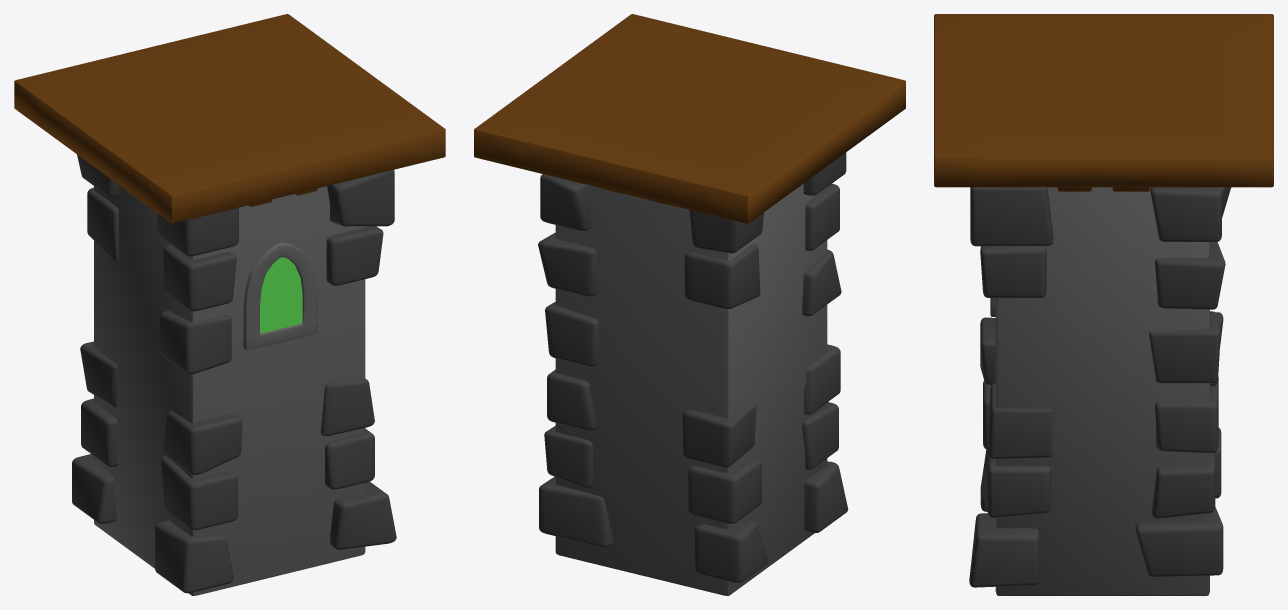
Rendered from MainTowerBase.fbx.
The picture shows the model from 3 angles, left to right: view 1: azimuth 30°, elevation 25°; view 2: azimuth 150°, elevation 25°; view 3: azimuth 270°, elevation 25°; orthographic projection. The views are drawn at different scales.
Parts seen in each view (by area): view 1: MainTowerBase; view 2: MainTowerBase; view 3: MainTowerBase.
Boxes of the visible parts, x1,y1,x2,y2 form: MainTowerBase: (14,14,445,595); MainTowerBase: (474,14,905,595); MainTowerBase: (934,14,1273,595).
Size of the model in its own units: 668 by 1010 by 666.
